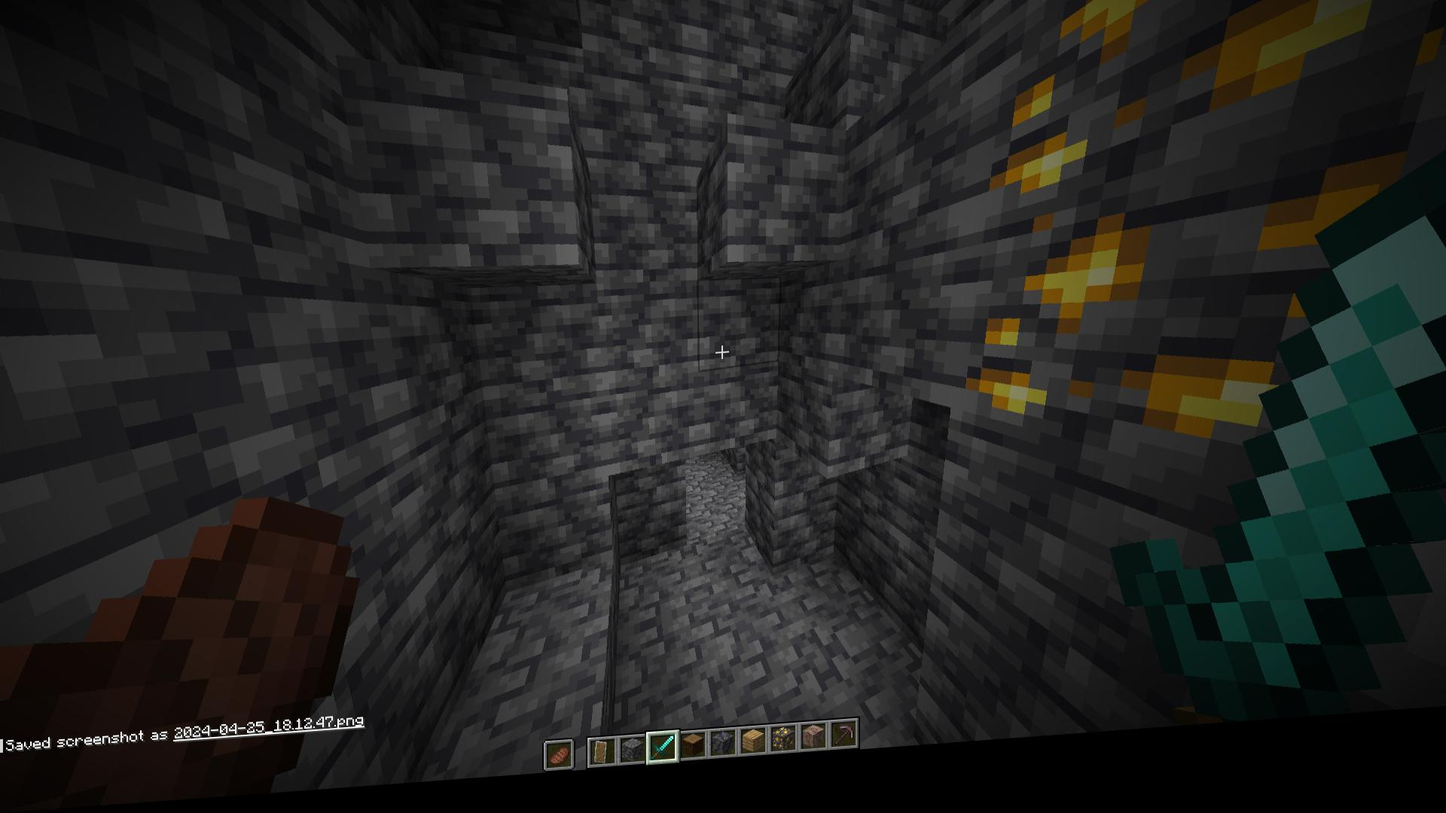gold ore: (1000, 0, 1443, 214), (963, 199, 1273, 477)
